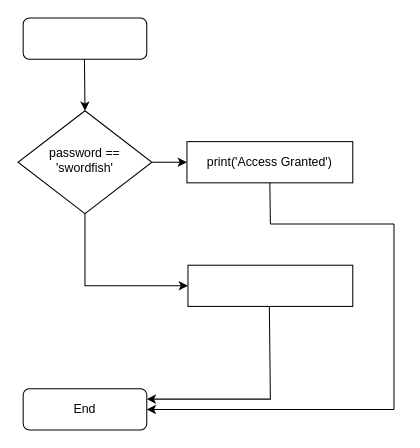
Image size: 420x448. Some labels were removed from this diagram. The shapes that lost their labels are listed below. From the top down, each one's centre as x and y in pixels, then its label:
At point (84, 38): "Start".
At point (270, 285): "print('Access Denied')".
